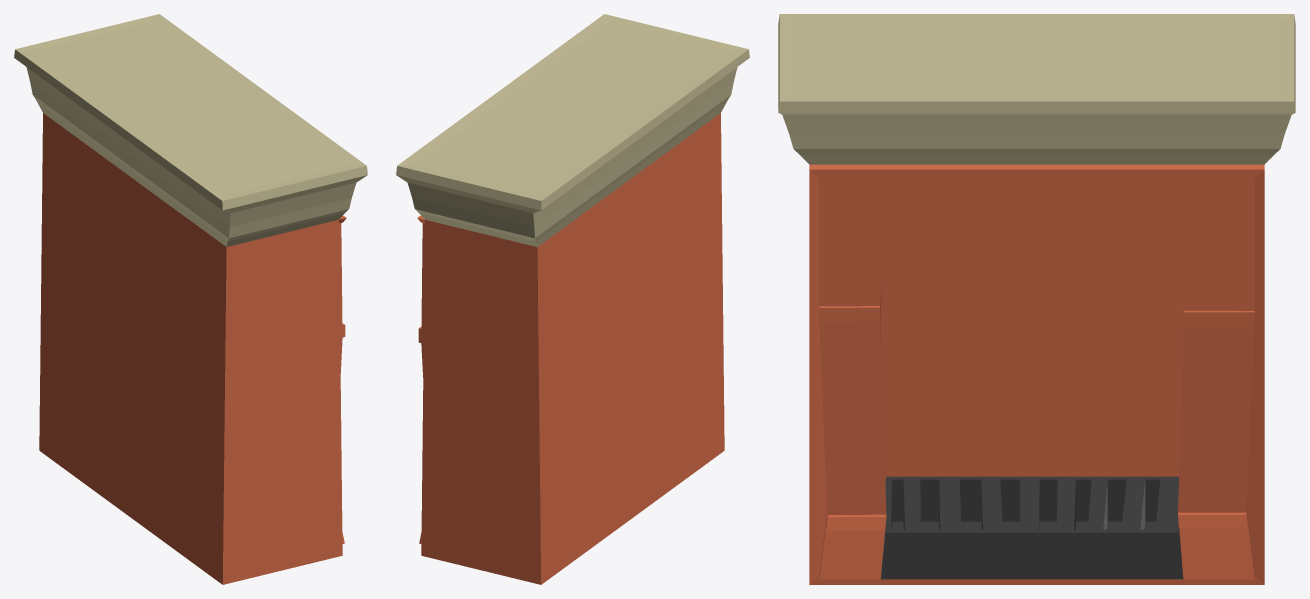
The model's file is lareira 1.fbx.
The picture shows the model from 3 angles, left to right: view 1: azimuth 30°, elevation 25°; view 2: azimuth 150°, elevation 25°; view 3: azimuth 270°, elevation 25°; orthographic projection. The views are drawn at different scales.
Parts seen in each view (by area): view 1: Cube; view 2: Cube; view 3: Cube.
Part boxes in pixels (x1,y1,x2,y2): Cube: (14, 14, 367, 584); Cube: (396, 14, 749, 584); Cube: (778, 14, 1295, 584).
Size of the model in its own units: 257 by 669 by 639.
